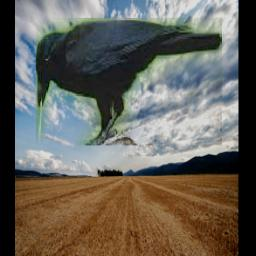Crow: (35, 19, 221, 146)
